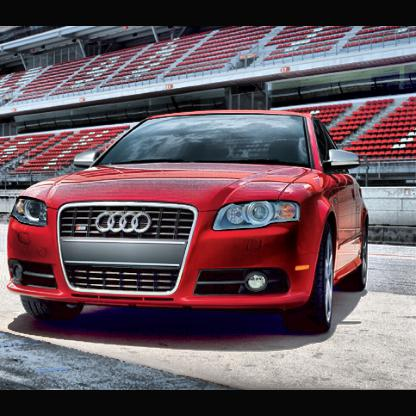Audi S4 Sedan 2007: (8, 108, 371, 339)
